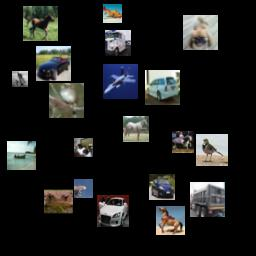airplane: (103, 64, 138, 99), (103, 4, 122, 23), (74, 179, 93, 198)
automobile: (145, 70, 180, 105), (36, 46, 71, 81), (97, 195, 129, 227), (149, 174, 175, 200)
bird: (49, 83, 84, 118), (196, 134, 228, 166)
dog: (183, 15, 218, 50), (74, 138, 93, 157)
frog: (44, 187, 73, 216)
ship: (7, 141, 36, 170)
truck: (190, 182, 225, 217), (105, 30, 131, 56), (12, 71, 28, 87)
